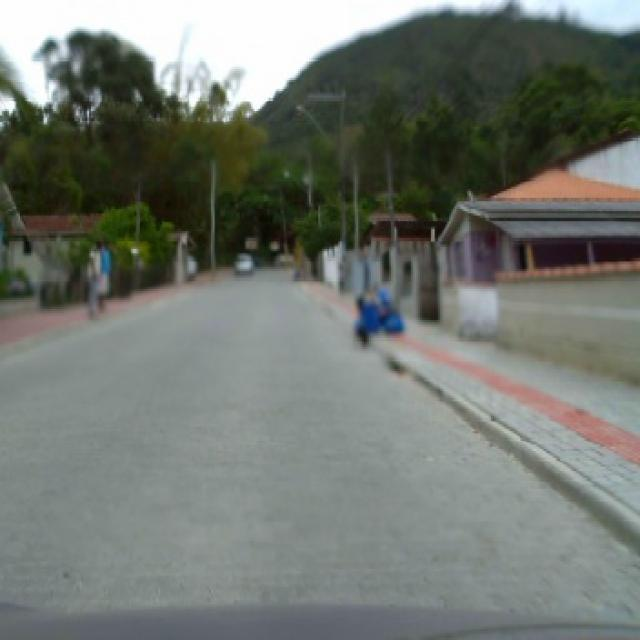Poth-hole: (386, 354, 406, 376)
